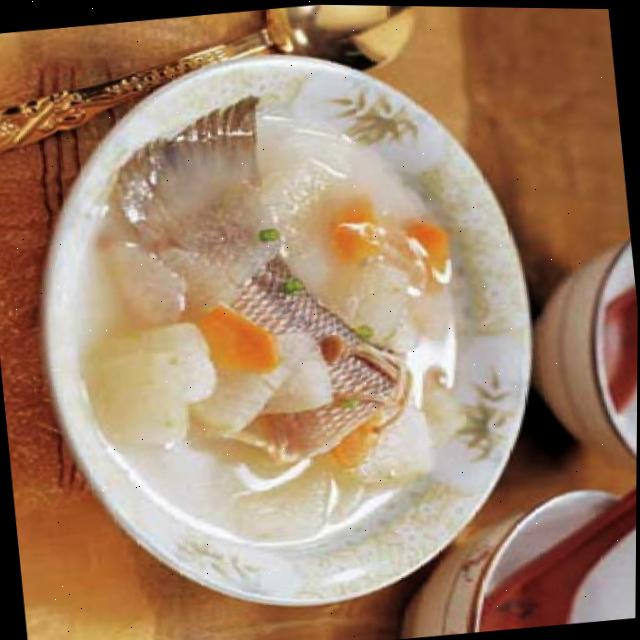汤锅炖物: (14, 29, 572, 630)
